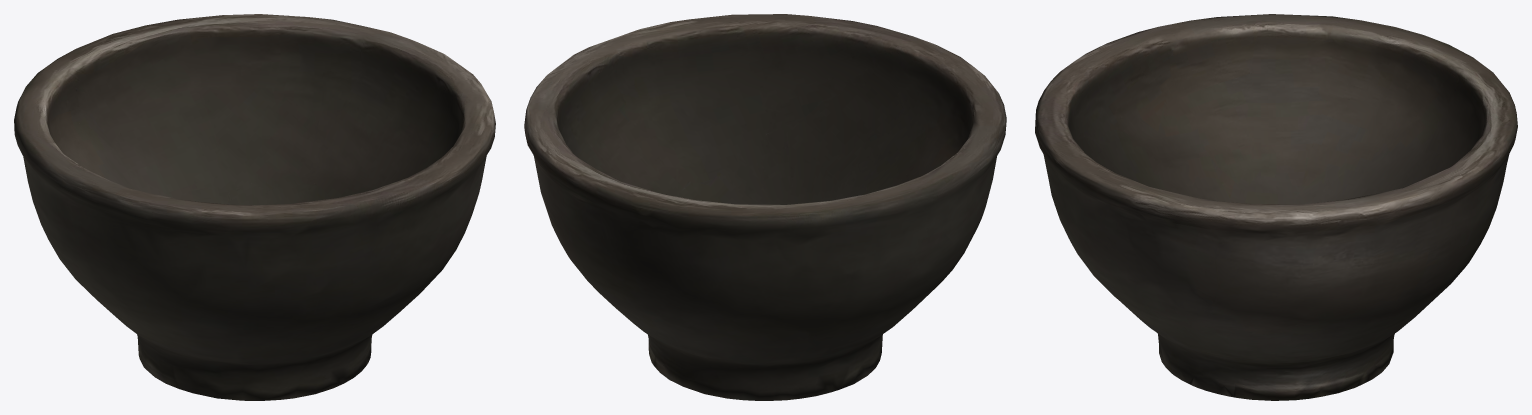
File: decorative_bowl_ceramic.glb
3 renders of one model, left to right at view 1: azimuth 30°, elevation 25°; view 2: azimuth 150°, elevation 25°; view 3: azimuth 270°, elevation 25°, orthographic.
Visible parts, largest first — view 1: tripo_node_37348105-9302-4fa4-9ec2-dc762eec03a3; view 2: tripo_node_37348105-9302-4fa4-9ec2-dc762eec03a3; view 3: tripo_node_37348105-9302-4fa4-9ec2-dc762eec03a3.
Boxes of the visible parts, bbox=[...] form: tripo_node_37348105-9302-4fa4-9ec2-dc762eec03a3: bbox=[14, 14, 495, 400]; tripo_node_37348105-9302-4fa4-9ec2-dc762eec03a3: bbox=[524, 14, 1006, 400]; tripo_node_37348105-9302-4fa4-9ec2-dc762eec03a3: bbox=[1035, 14, 1517, 400].
Bounding box in the file's own units: 0.9996 × 0.5439 × 1.
Materials: 1 (1 with a texture image).
